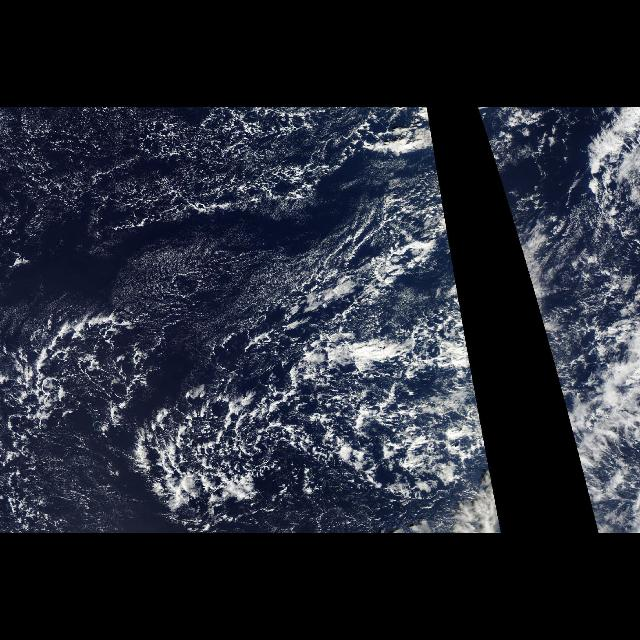Gravel: (0, 108, 474, 526)
Sugar: (2, 108, 342, 322)
